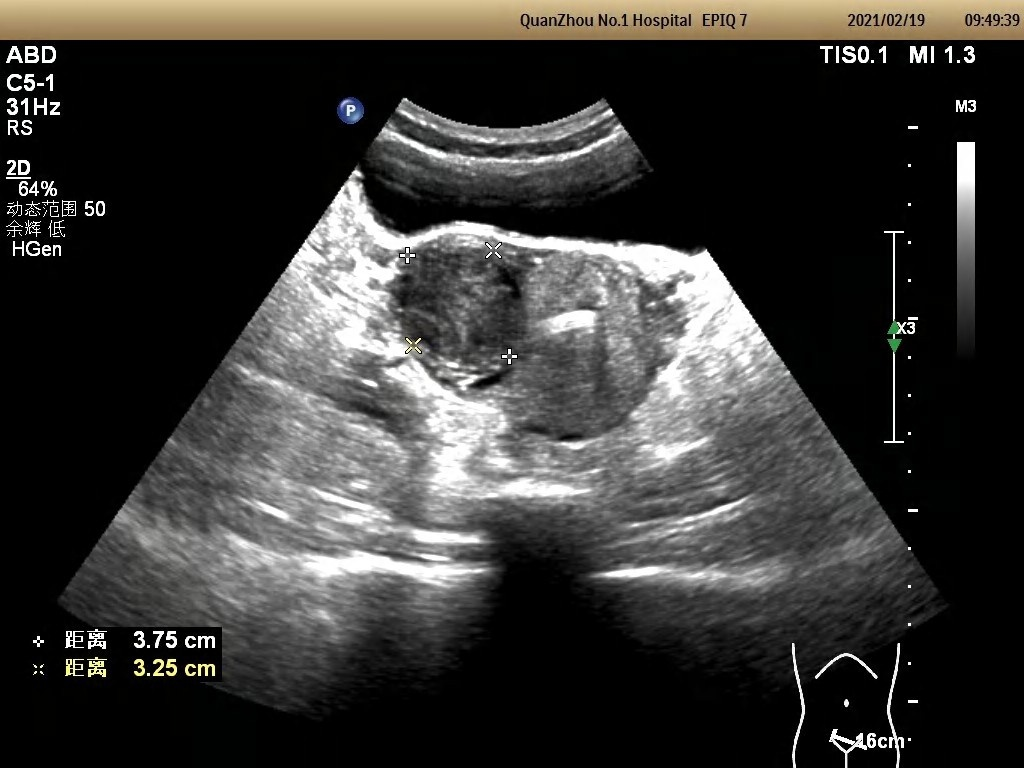肌瘤: (409, 257, 509, 361)
